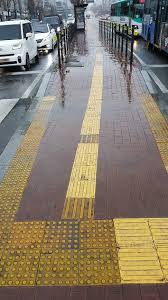guide_blocks: (3, 220, 168, 283), (63, 134, 98, 219), (138, 96, 168, 165), (1, 156, 32, 220), (83, 78, 102, 134), (35, 94, 55, 126), (21, 128, 42, 156), (91, 49, 102, 77)
